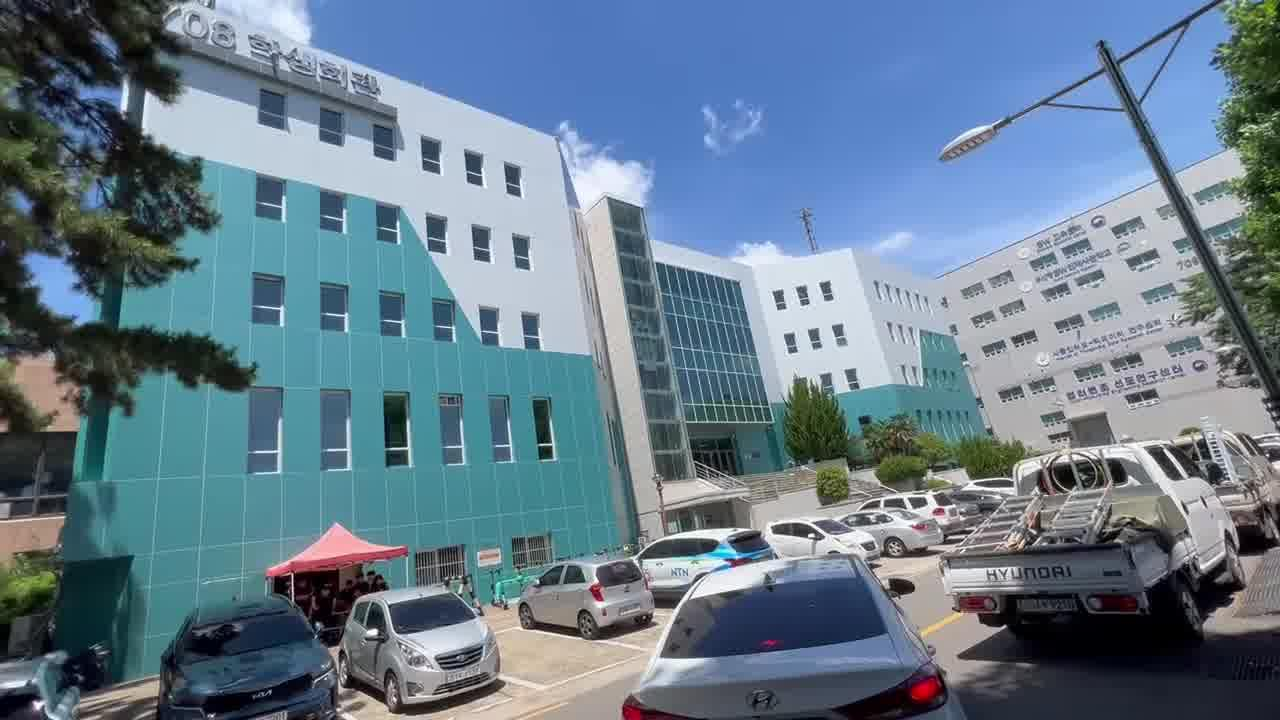building: (127, 17, 983, 473)
